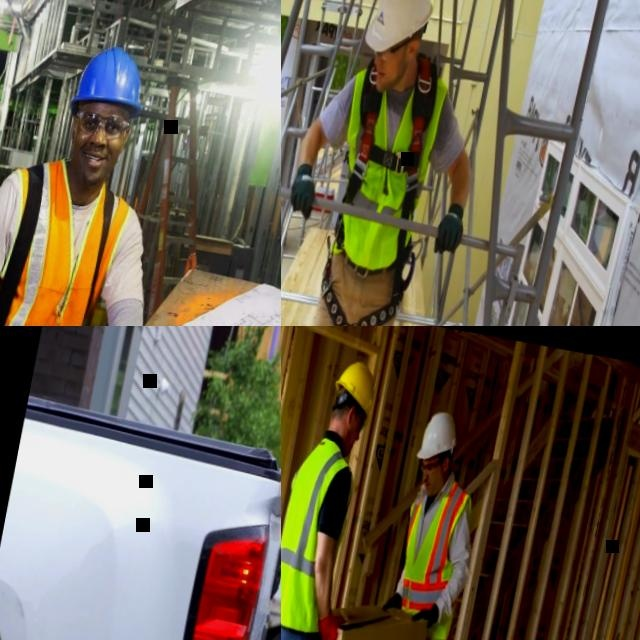Hardhat: (67, 41, 153, 121), (328, 357, 382, 426), (416, 406, 463, 465)
NO-Hardhat: (360, 0, 441, 61)
NO-Mask: (69, 140, 119, 187), (374, 57, 400, 91), (423, 464, 446, 499), (339, 418, 359, 456)
NO-Safety Vest: (322, 64, 449, 271)
Person: (281, 0, 513, 326), (0, 24, 194, 326), (340, 406, 499, 640), (281, 351, 389, 640)
Safety Vest: (0, 141, 142, 326), (281, 429, 363, 635), (388, 471, 481, 636)
vehicle: (0, 391, 281, 640)
